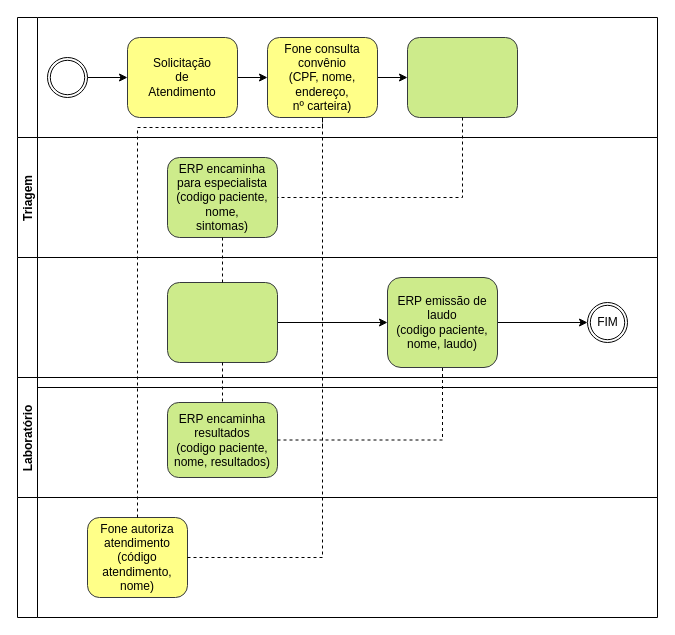
This 675x635 diagram has some shape labels left out. The box of each missing label's shape, as (x1, y1, x2, y2) in pixels:
Atendente: (16, 16, 658, 138)
Convênio: (16, 496, 658, 618)
ERP encaminha para triagem (codigo paciente, nome): (406, 36, 518, 118)
ERP solicita exames (codigo paciente, nome): (166, 282, 278, 362)
Especialista: (16, 256, 658, 388)
